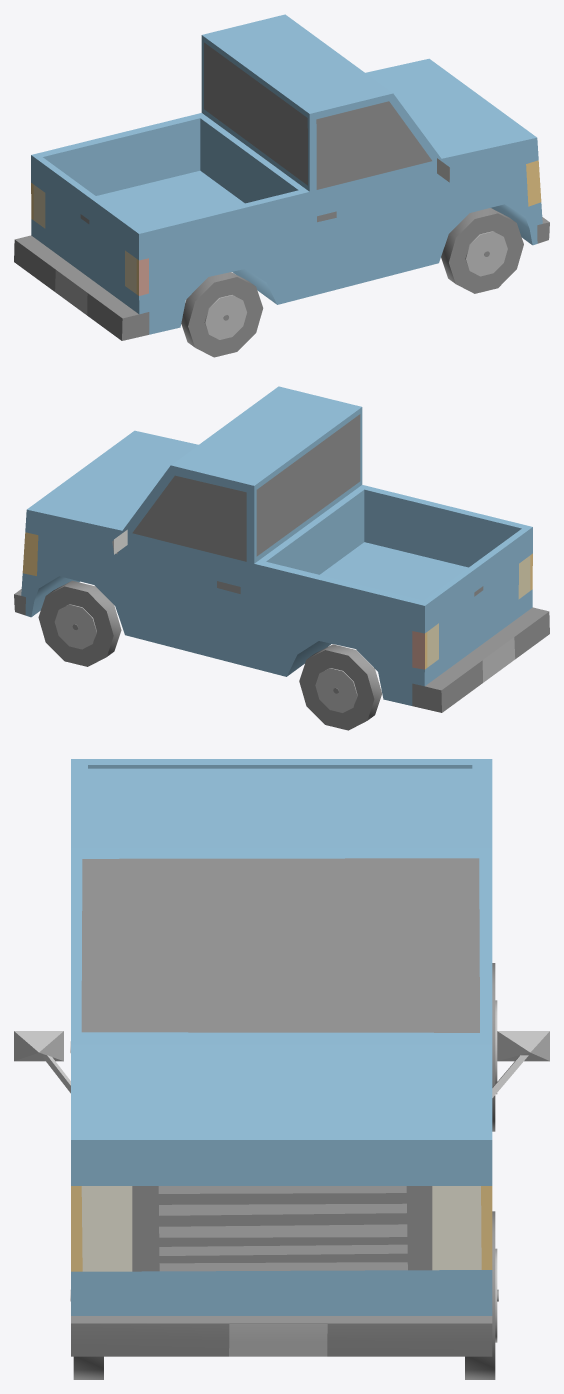
File: kar_13.fbx
3 renders of one model, top to bottom at view 1: azimuth 30°, elevation 25°; view 2: azimuth 150°, elevation 25°; view 3: azimuth 270°, elevation 25°, orthographic. The views are drawn at different scales.
Visible parts, largest first — view 1: Cube_1, Cylinder_6, Cylinder_9; view 2: Cube_1, Cylinder_8, Cylinder_7; view 3: Cube_1, Cylinder_7, Cylinder_8, Cylinder_6.
Boxes of the visible parts, x1,y1,x2,y2 form: Cube_1: (14, 14, 549, 340); Cylinder_6: (441, 208, 523, 293); Cylinder_9: (181, 272, 263, 357); Cube_1: (14, 386, 549, 712); Cylinder_8: (299, 644, 381, 730); Cylinder_7: (38, 580, 121, 666); Cube_1: (14, 759, 549, 1356); Cylinder_7: (465, 1211, 498, 1379); Cylinder_8: (492, 963, 497, 1131); Cylinder_6: (70, 1290, 103, 1379).
Bounding box in the file's own units: 435 × 215 × 242.
